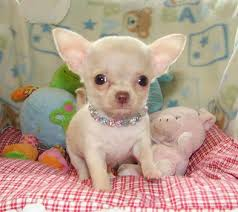chihuahua: (38, 28, 209, 183)
